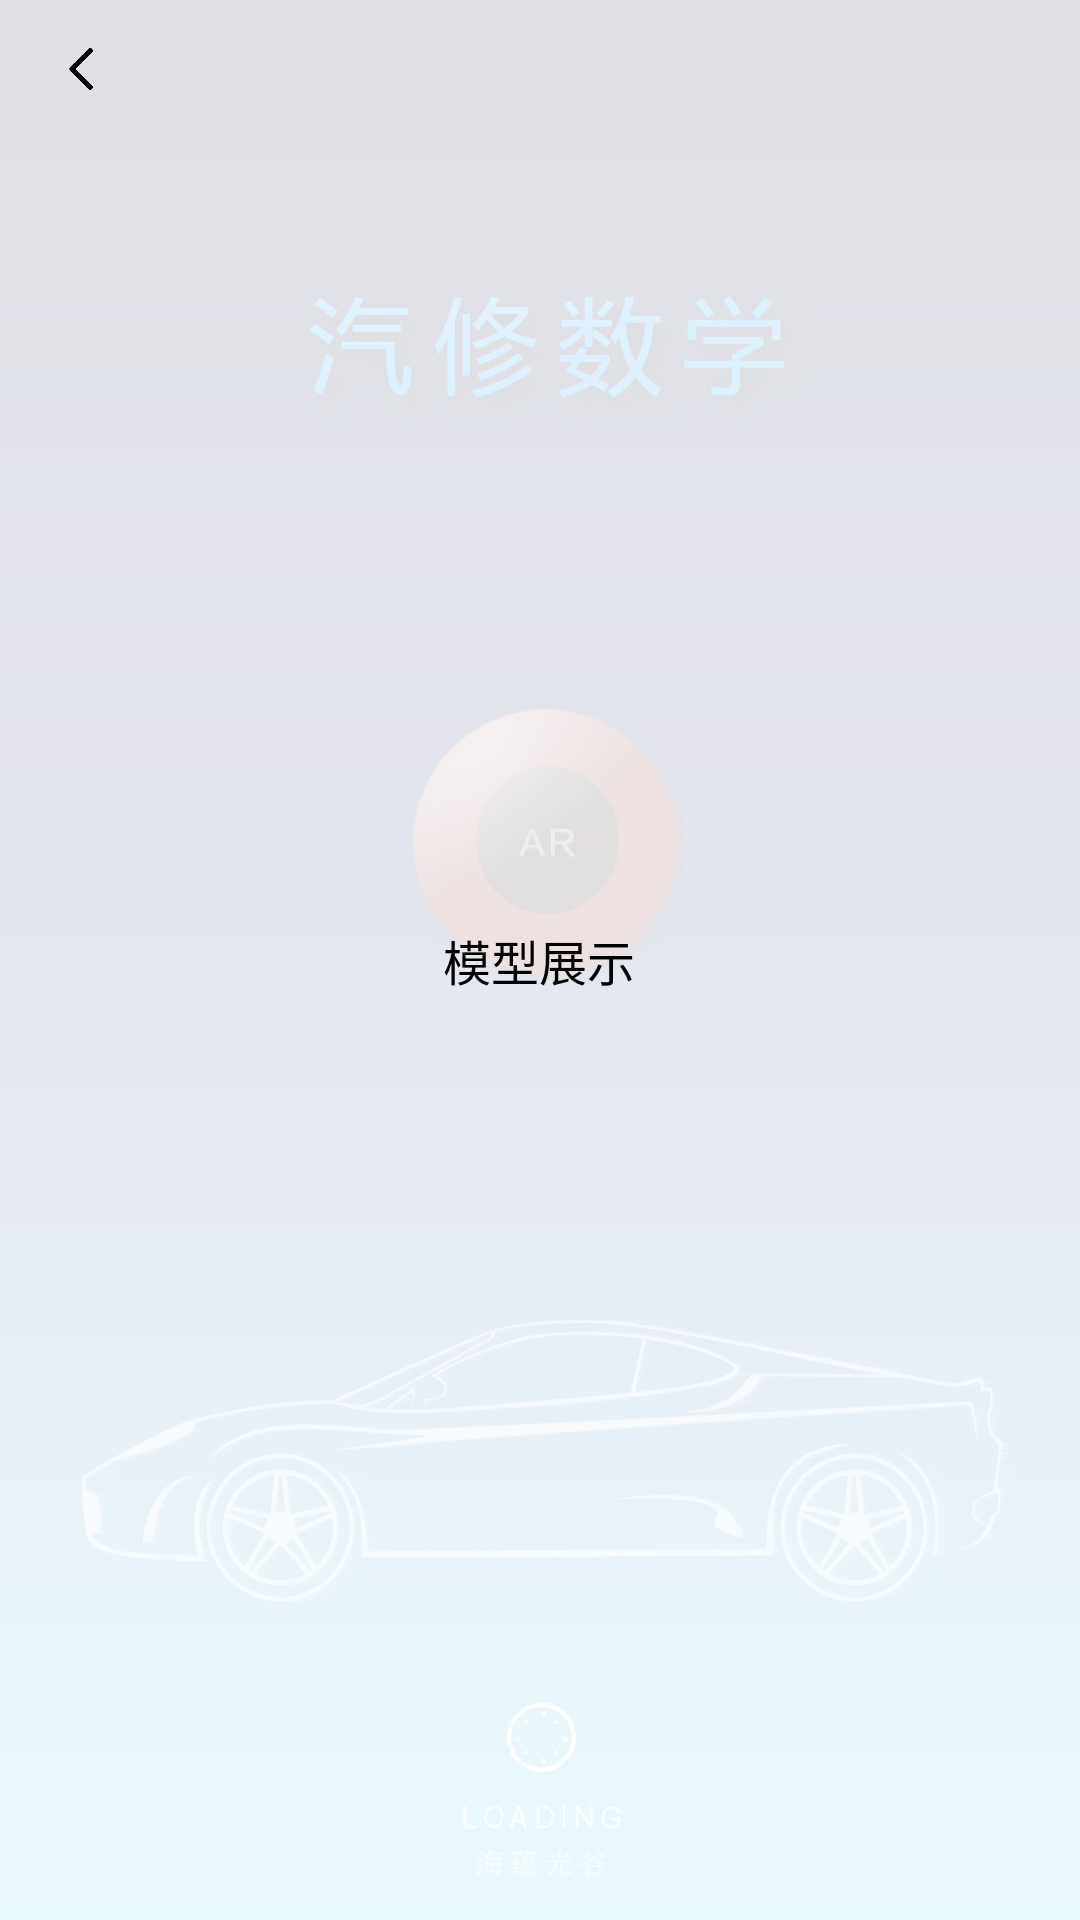

Point at icon controls on the screen. Image size 1080 x 1920, points as (x=x, y=y).
back: (x=81, y=69)
